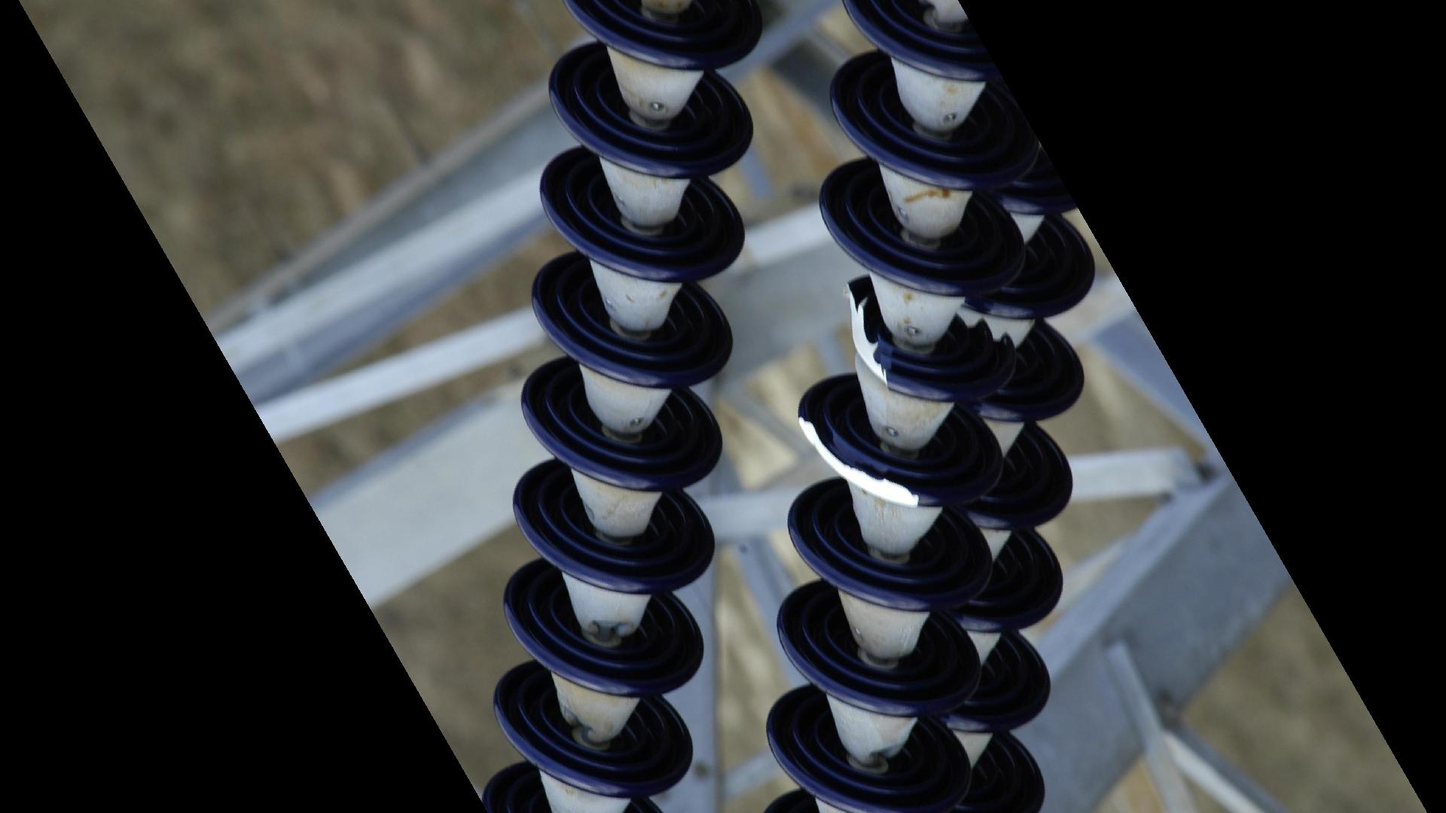insulator: (760, 1, 1100, 813), (474, 1, 771, 813)
insulator_breakage: (789, 408, 931, 515), (837, 274, 901, 395)
